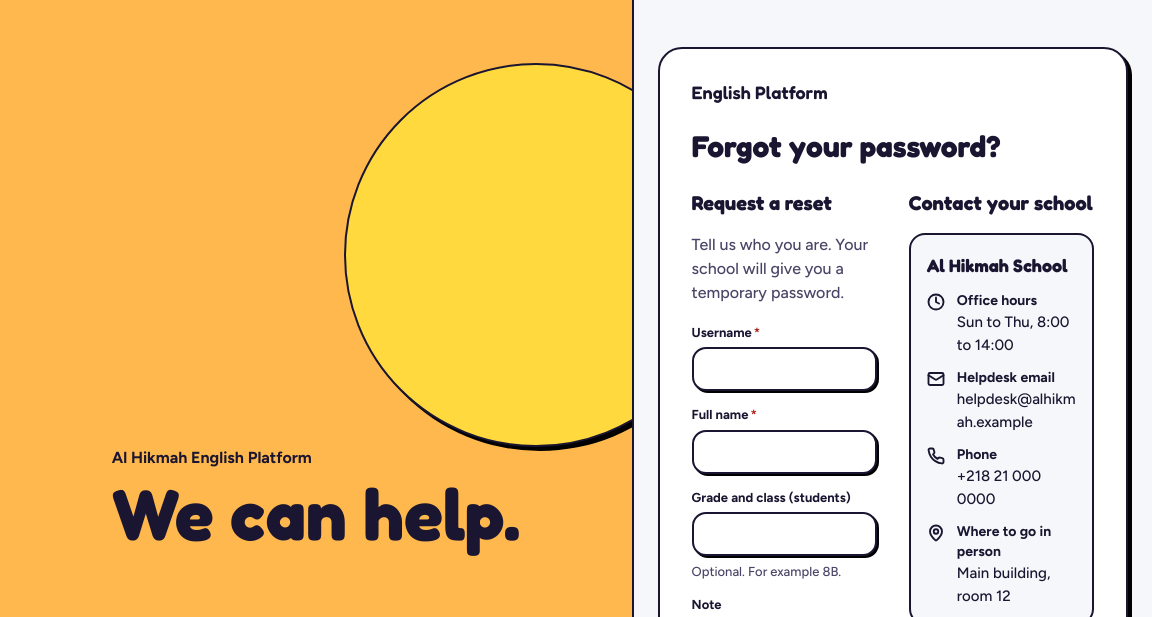
Test: ForgotPasswordPage › shows a general failure message for other server errors
In the field labelled "Username*": (784, 369) [706,349,863,389], type "sara.k"
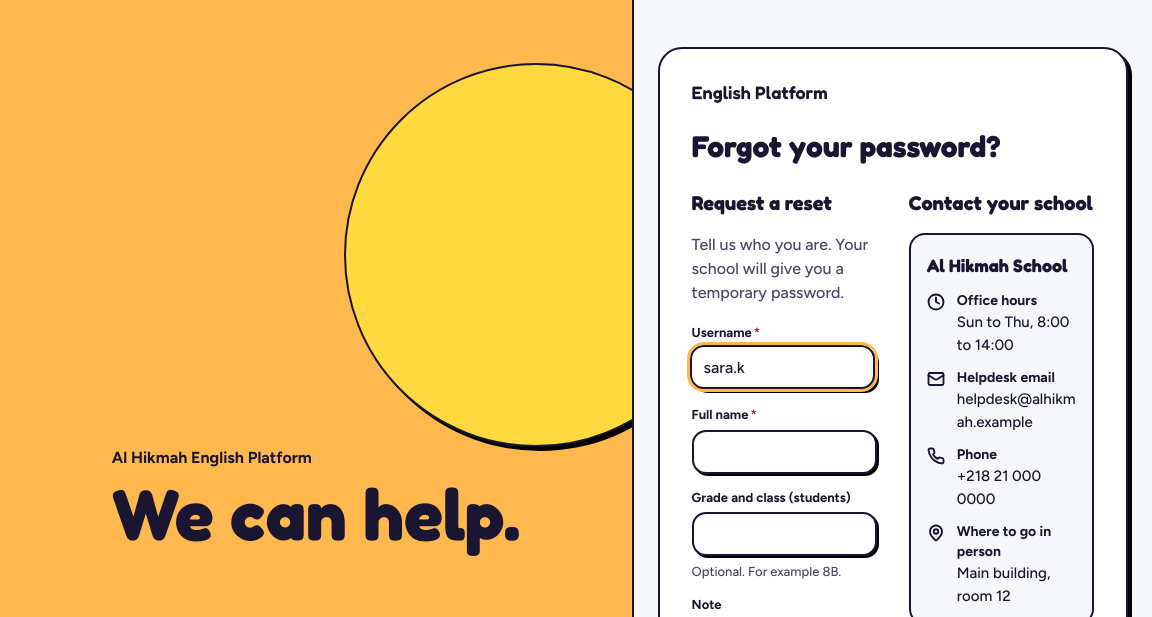
In the field labelled "Full name*": (784, 452) [706,432,863,472], type "Sara Khaled"
(page scrolled)
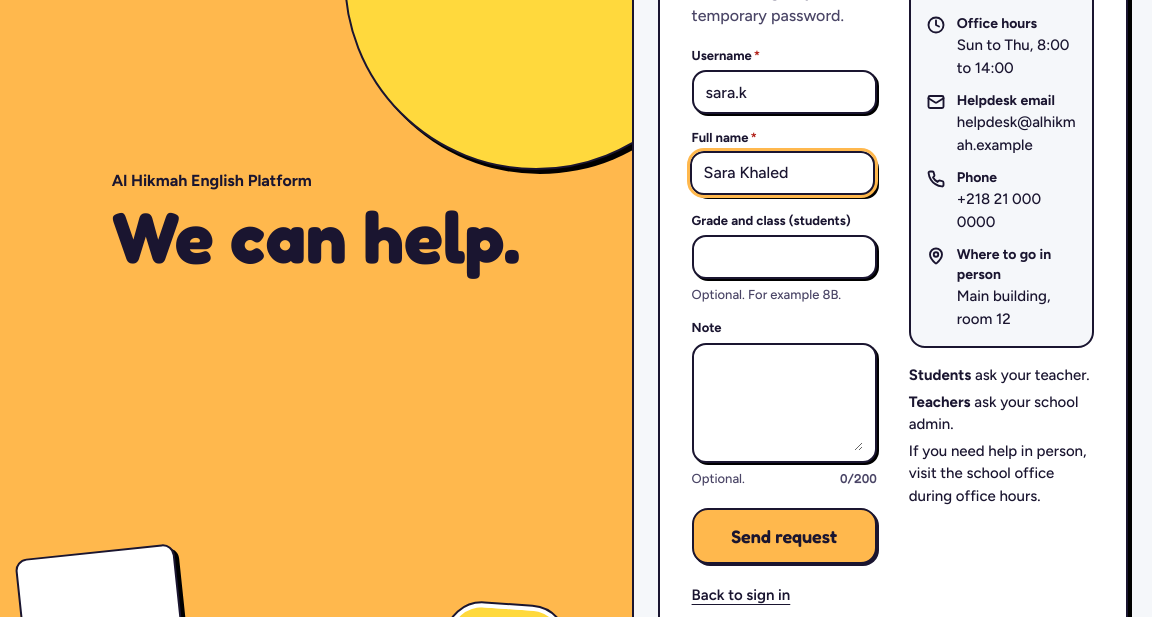
Click the button "Send request": (784, 536) [692,508,877,564]
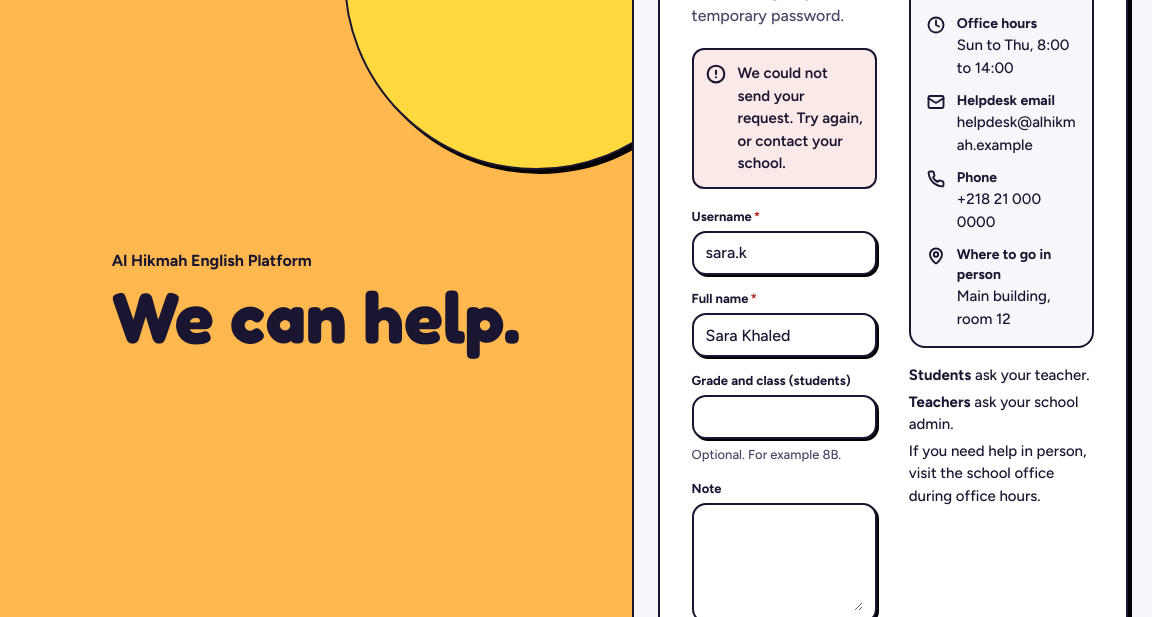
Expected: the text "We could not send your request. Try again, or contact your school." is shown, [738,62,863,174]
